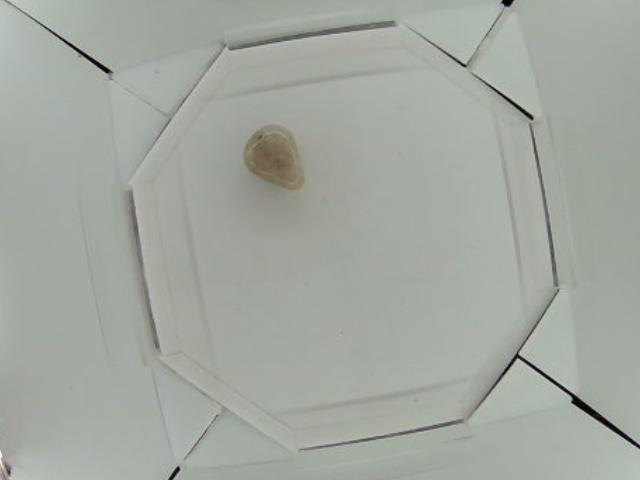Pebble: (240, 124, 305, 192)
